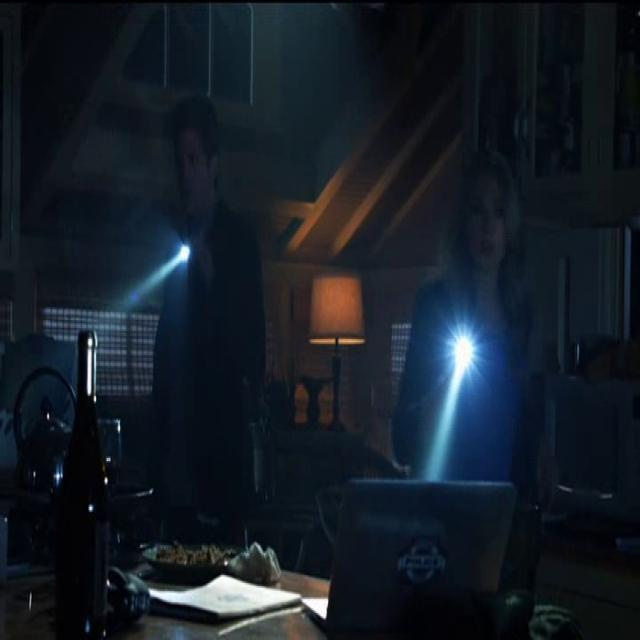Bottle: (47, 308, 122, 627)
People: (388, 130, 557, 535), (156, 90, 275, 558)
